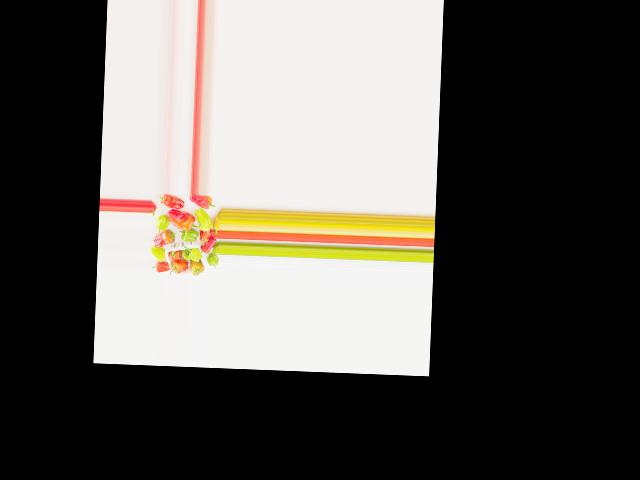bell_pepper: (192, 194, 216, 211)
